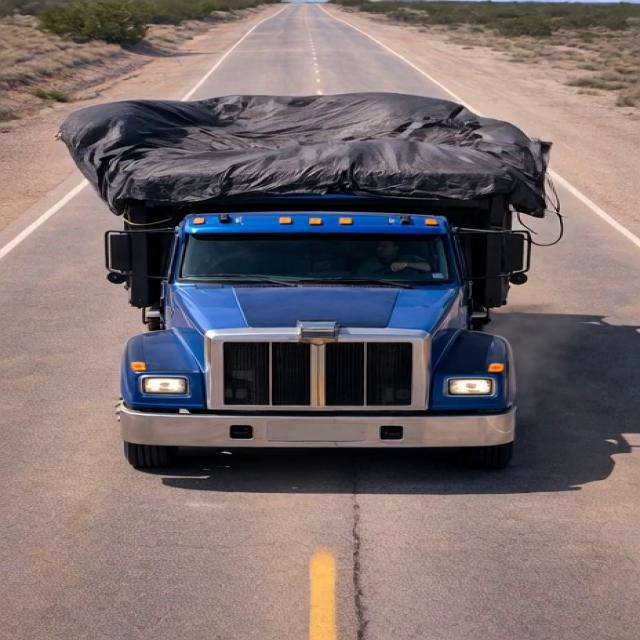trailer: (50, 90, 584, 219)
truck: (21, 65, 595, 478)
